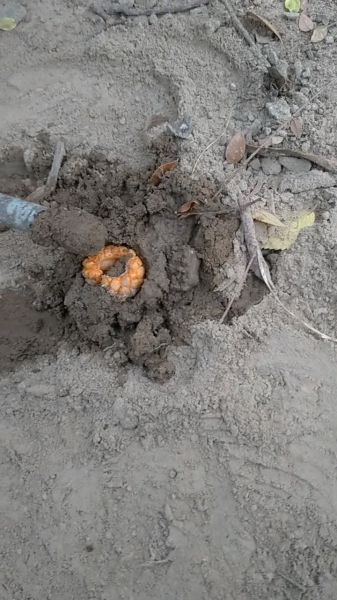eggs: (71, 237, 152, 308)
